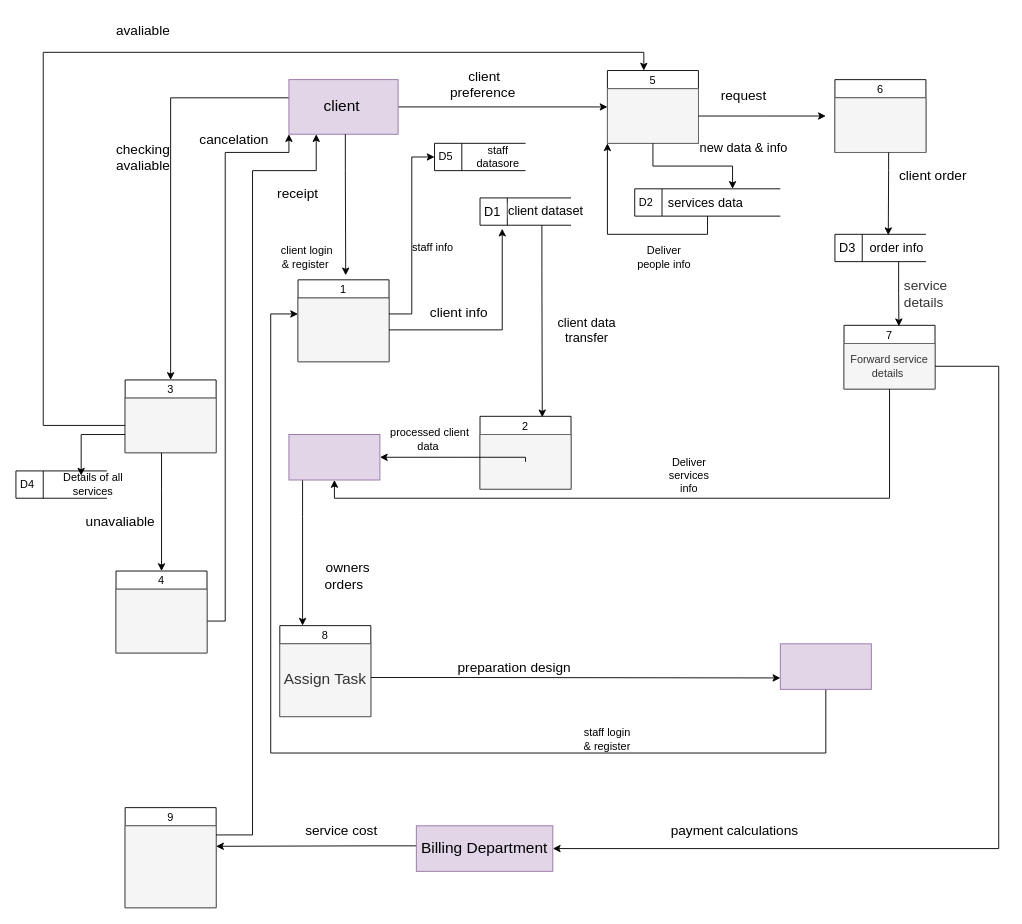
Some shapes in this 1022 by 924 pixel diagram are drawn without their labels. Each missing label, with the centre of its shape:
"cancelation order" goes at pixel 161 620.
"checking for avaliable details" goes at pixel 170 425.
"choose services" goes at pixel 652 115.
"Client confirm order" goes at pixel 880 124.
"Deliver client info" goes at pixel 525 461.
"Owner" goes at pixel 334 457.
"pay" goes at pixel 170 866.
"registiration and login" goes at pixel 343 329.
"staff" goes at pixel 825 666.
